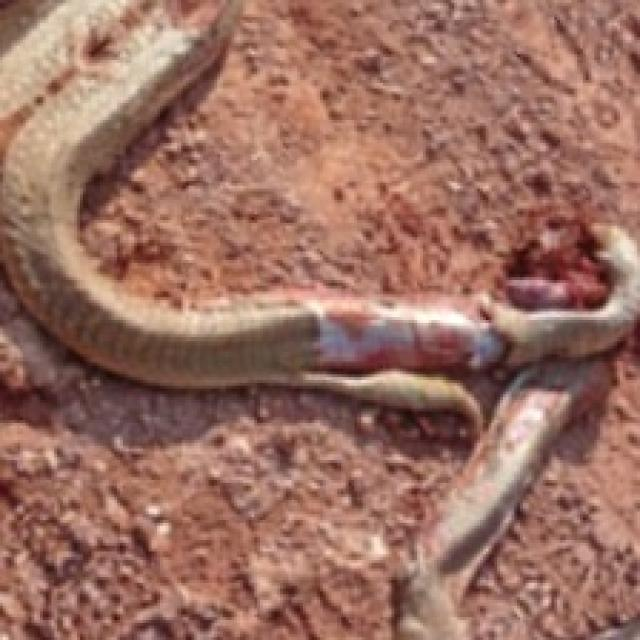king cobra: (0, 0, 637, 386), (0, 277, 471, 637), (83, 0, 637, 303), (460, 329, 637, 637)
